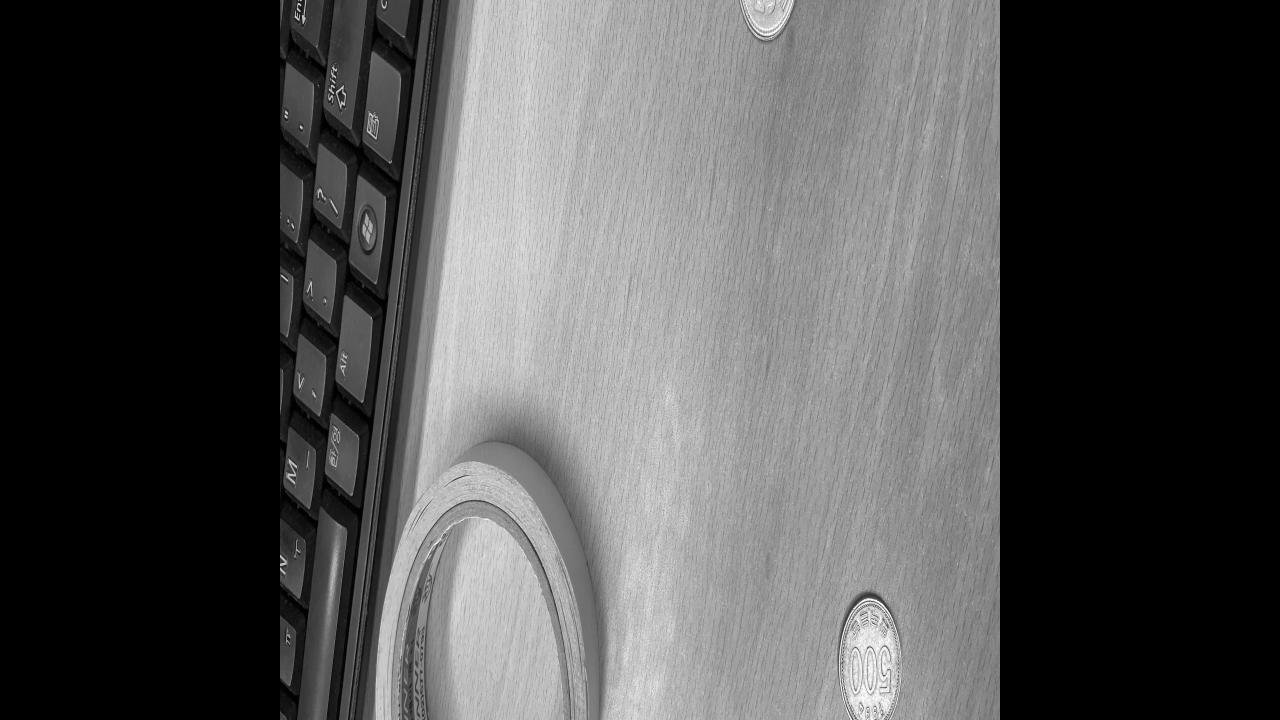coin: (837, 589, 903, 720), (738, 0, 800, 41)
